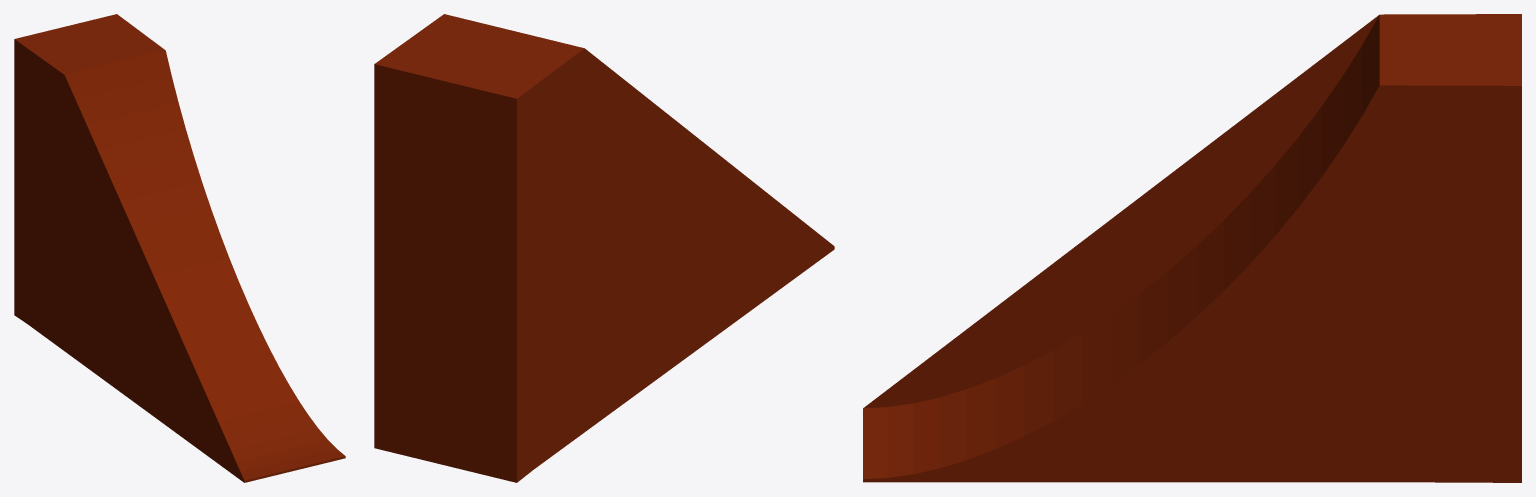
The model's file is ramp2.fbx.
3 renders of one model, left to right at view 1: azimuth 30°, elevation 25°; view 2: azimuth 150°, elevation 25°; view 3: azimuth 270°, elevation 25°, orthographic. The views are drawn at different scales.
Visible parts, largest first — view 1: Cube; view 2: Cube; view 3: Cube.
Boxes of the visible parts, x1,y1,x2,y2 form: Cube: (14, 14, 345, 482); Cube: (374, 14, 834, 482); Cube: (863, 14, 1521, 482).
Size of the model in its own units: 169 by 435 by 655.
